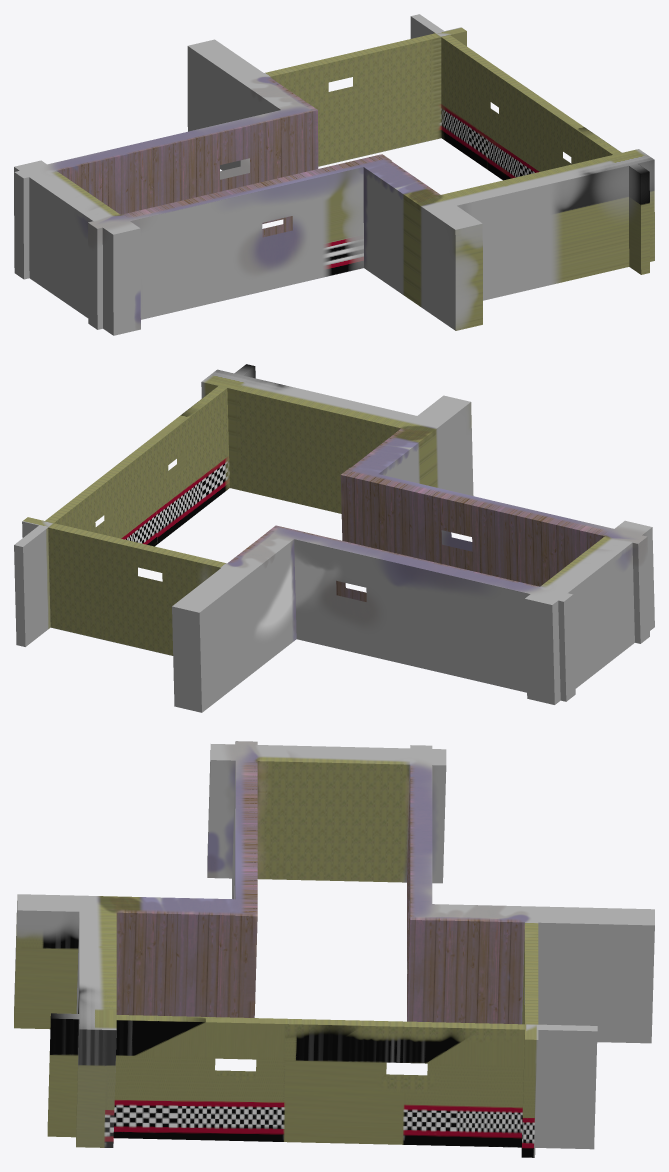
Rendered from Wallswithahole.fbx.
The picture shows the model from 3 angles, top to bottom: view 1: azimuth 30°, elevation 25°; view 2: azimuth 150°, elevation 25°; view 3: azimuth 270°, elevation 25°; orthographic projection. The views are drawn at different scales.
Parts seen in each view (by area): view 1: WallsAgain; view 2: WallsAgain; view 3: WallsAgain.
Boxes of the visible parts, x1,y1,x2,y2 form: WallsAgain: [14, 14, 654, 335]; WallsAgain: [14, 364, 654, 712]; WallsAgain: [14, 741, 654, 1157].
Bounding box in the file's own units: 37499 × 8261 × 35563.
